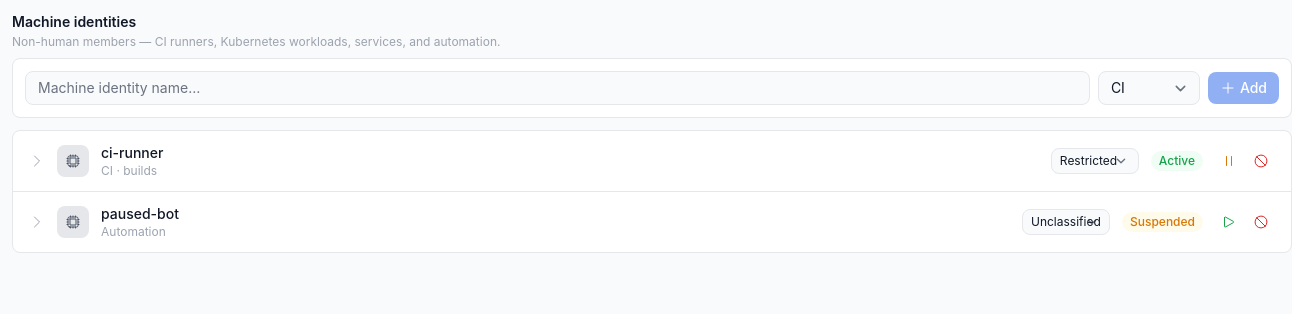
Test: MachineIdentitiesSection › shows a fallback error message when a lifecycle transition fails without server detail
Click the button named "suspend" at (1229, 161), box x1=1215 y1=147 x2=1243 y2=175
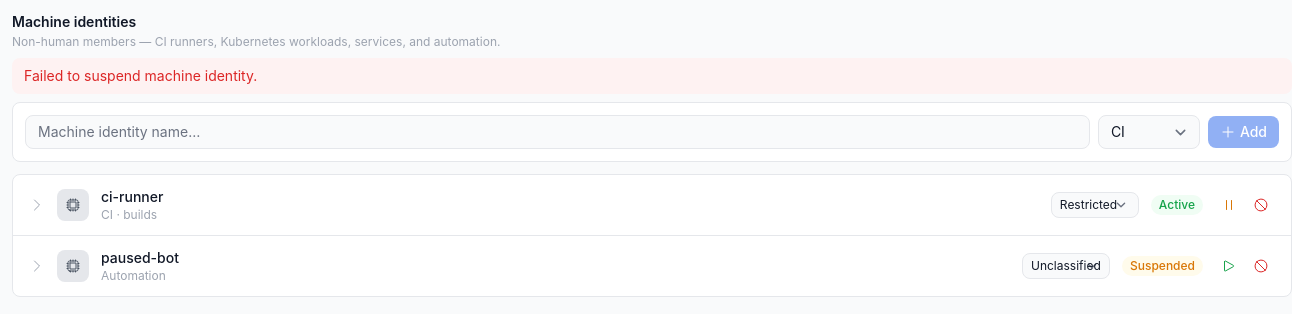
Result: the text "Failed to suspend machine identity." is shown at x1=12 y1=58 x2=1291 y2=94
